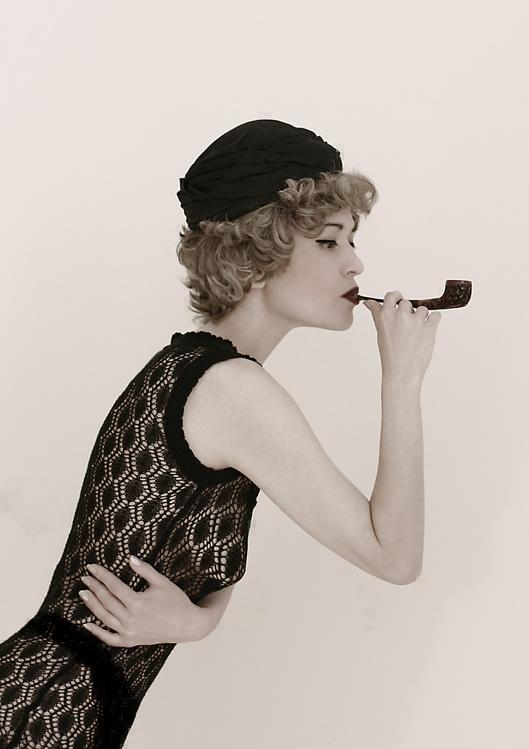trubka: (356, 280, 471, 309)
